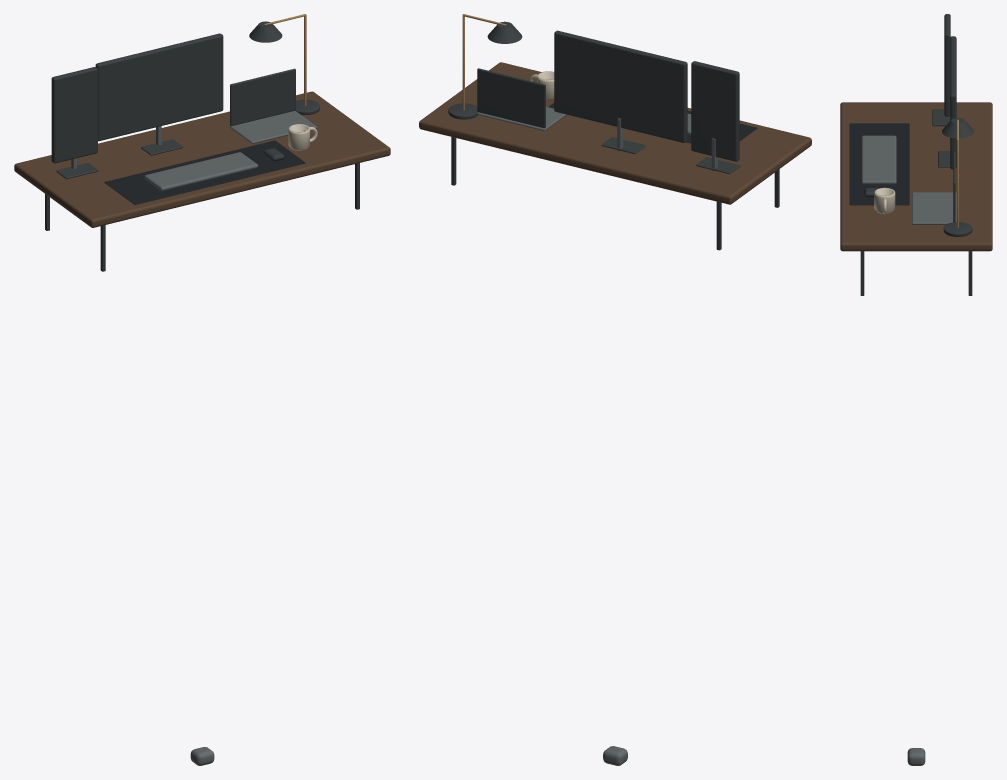
The model's file is office.glb.
3 renders of one model, left to right at view 1: azimuth 30°, elevation 25°; view 2: azimuth 150°, elevation 25°; view 3: azimuth 270°, elevation 25°, orthographic. The views are drawn at different scales.
Visible parts, largest first — view 1: desk_walnut, main_chassis, portrait_chassis, desk_mat, laptop_display, keyboard_shell, laptop_base; view 2: desk_walnut, main_chassis, portrait_chassis, laptop_display; view 3: desk_walnut, desk_mat, keyboard_shell, laptop_base, main_chassis, portrait_chassis, coffee_mug, lamp_shade, lamp_base, source_rock.
Boxes of the visible parts, box(x1,y1,x2,y2) form: desk_walnut: box(14, 91, 390, 227); main_chassis: box(95, 33, 223, 141); portrait_chassis: box(51, 67, 97, 163); desk_mat: box(104, 140, 305, 204); laptop_display: box(230, 68, 295, 126); keyboard_shell: box(144, 152, 258, 191); laptop_base: box(229, 111, 316, 143); desk_walnut: box(419, 62, 811, 204); main_chassis: box(554, 30, 687, 142); portrait_chassis: box(691, 61, 739, 161); laptop_display: box(477, 68, 545, 128); desk_walnut: box(840, 102, 992, 251); desk_mat: box(849, 123, 909, 205); keyboard_shell: box(861, 135, 896, 184); laptop_base: box(912, 192, 956, 224); main_chassis: box(950, 36, 956, 169); portrait_chassis: box(944, 14, 950, 116); coffee_mug: box(874, 187, 895, 213); lamp_shade: box(942, 118, 973, 138); lamp_base: box(943, 222, 972, 236); source_rock: box(907, 748, 925, 765).
Size of the model in its own units: 5.85 by 13.16 by 2.65.
